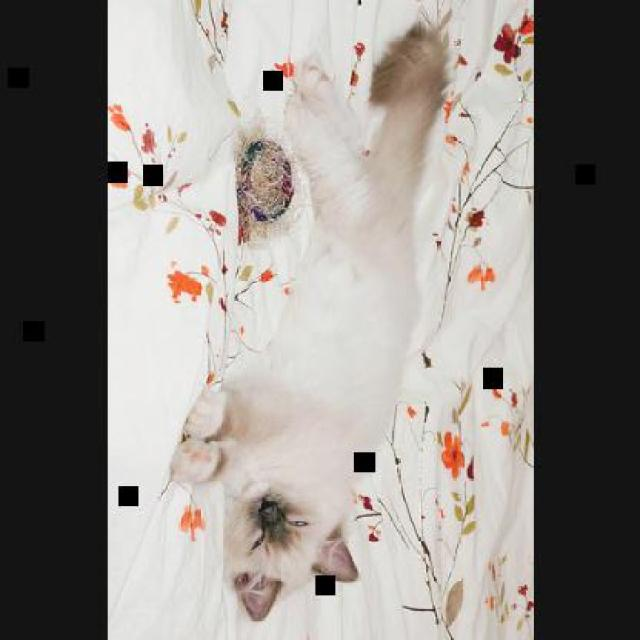unauthorized: (166, 8, 454, 620)
